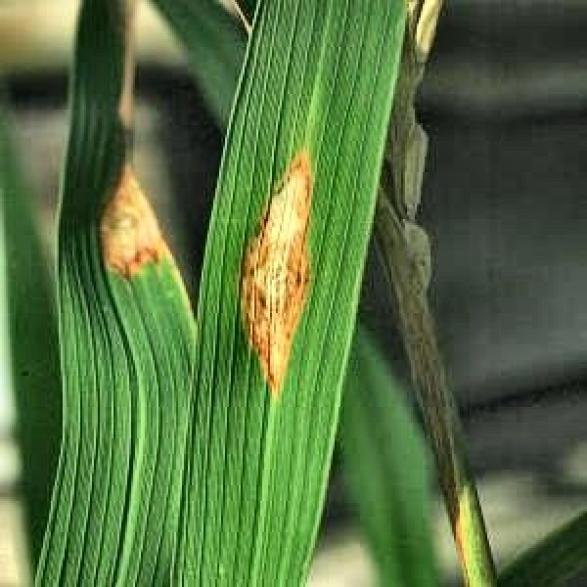Leaf_smut: (219, 147, 331, 389), (88, 111, 170, 282)
